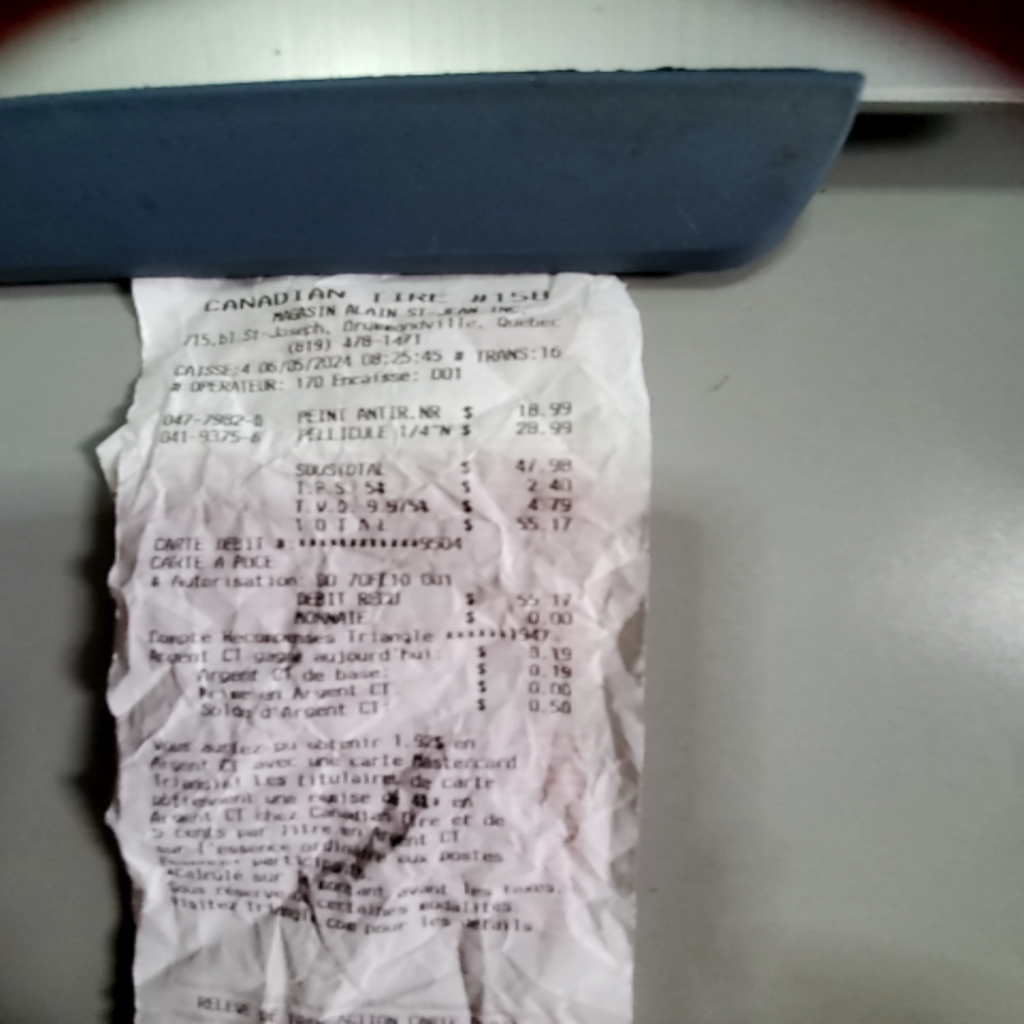recipt: (92, 269, 650, 1024)
